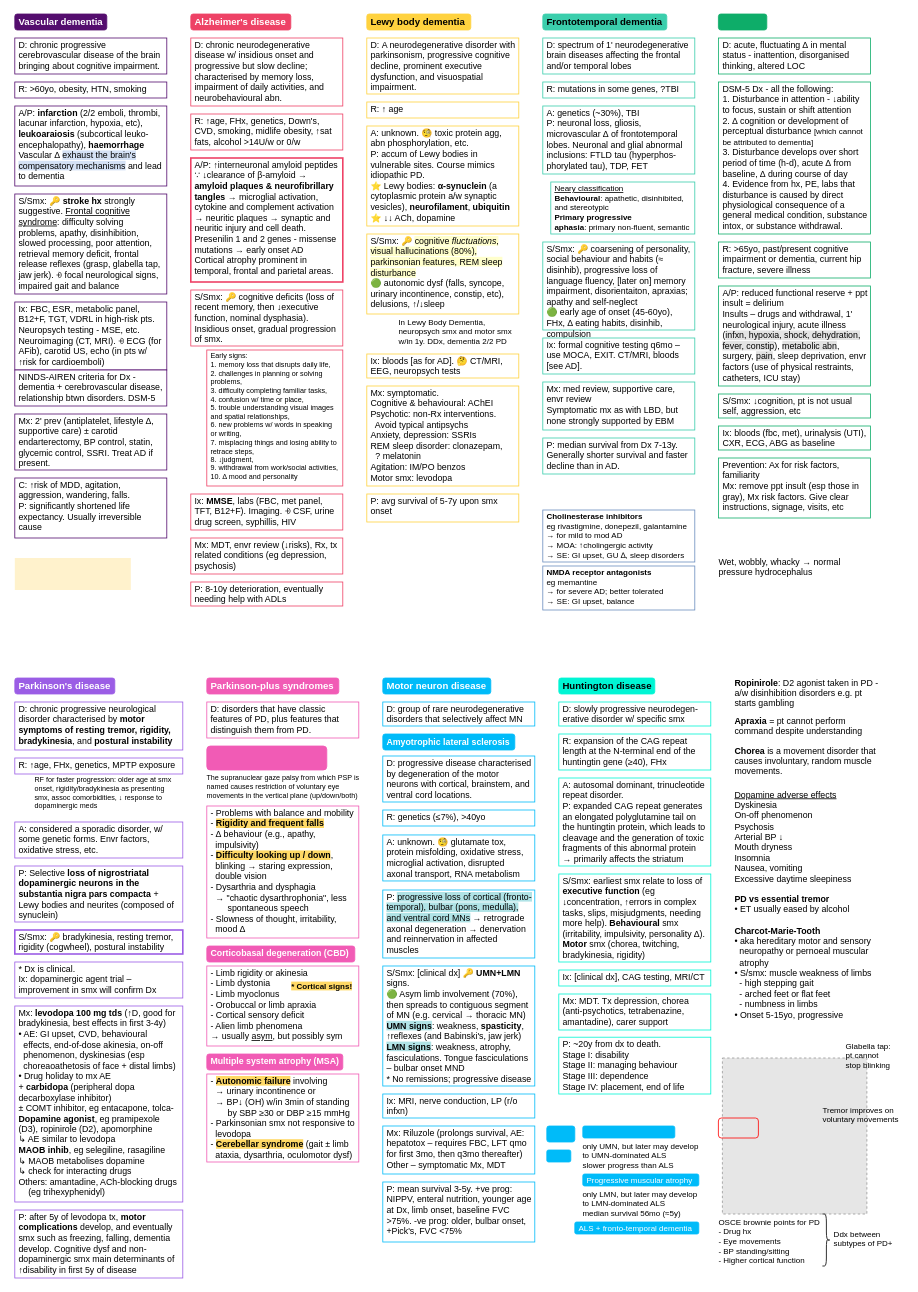
Some shapes in this 918 by 1292 pixel diagram are drawn without their labels. Grey dashed boxes stand in for pictures. The box of each missing label's shape, as (x1, y1, x2, y2) in pixels:
ALS: (546, 1149, 571, 1162)
Delirium: (718, 13, 767, 30)
MND: (546, 1125, 575, 1142)
Organic vs psychiatric causes of memory loss – serial 7s (psych usually intact): (14, 558, 130, 590)
Primary lateral sclerosis: (582, 1125, 675, 1138)
Progressive Supranuclear Palsy (PSP): (206, 745, 327, 770)
